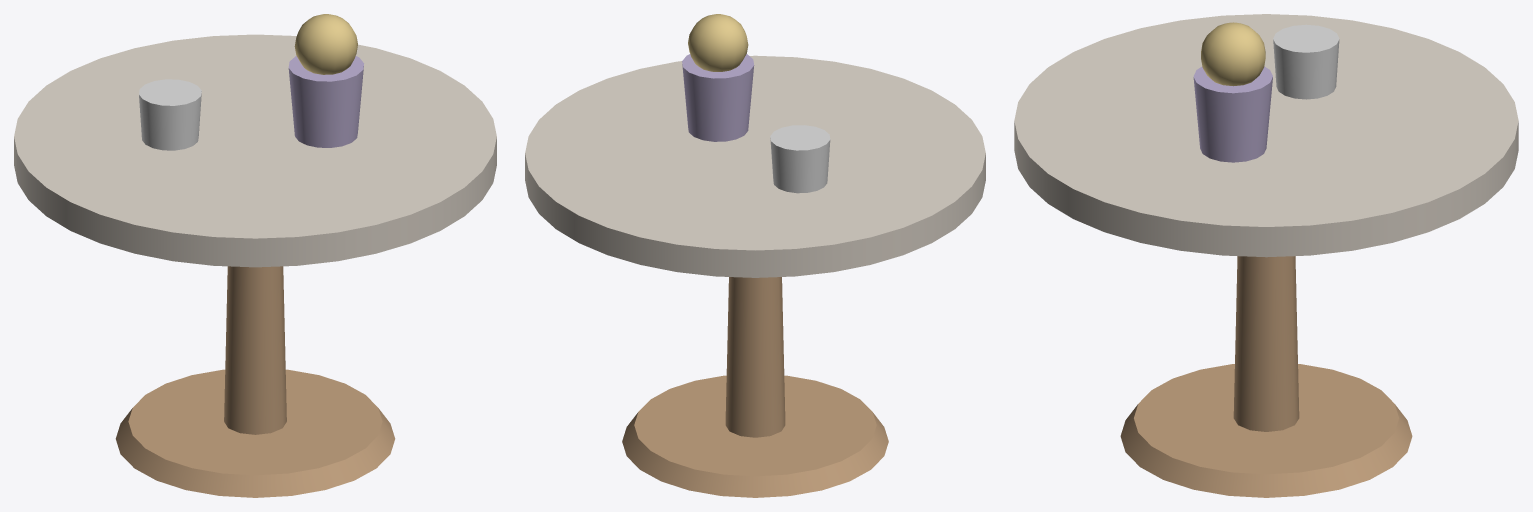
Rendered from furn_table_ph.glb.
3 renders of one model, left to right at view 1: azimuth 30°, elevation 25°; view 2: azimuth 150°, elevation 25°; view 3: azimuth 270°, elevation 25°, orthographic. The views are drawn at different scales.
Parts seen in each view (by area): view 1: furn_table; view 2: furn_table; view 3: furn_table.
Boxes of the visible parts, x1,y1,x2,y2 form: furn_table: (14, 14, 496, 497); furn_table: (525, 14, 985, 497); furn_table: (1014, 14, 1518, 497).
Size of the model in its own units: 0.76 by 0.73 by 0.76.
